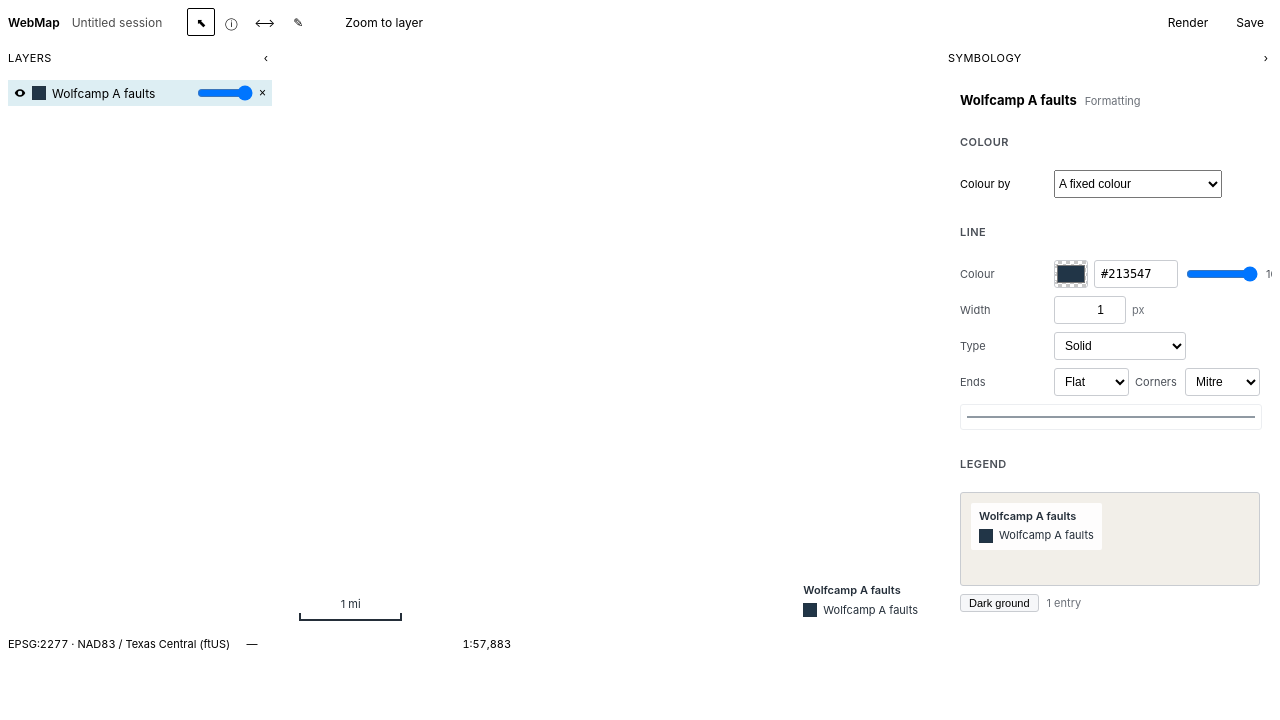
Test case: the working set › reports a layer too large to edit rather than opening an empty one
What coordinates should you click on to do the following:
click the radio button named "Edit"
I would click on:
 (298, 22)
Its box is left=284, top=8, right=312, bottom=36.
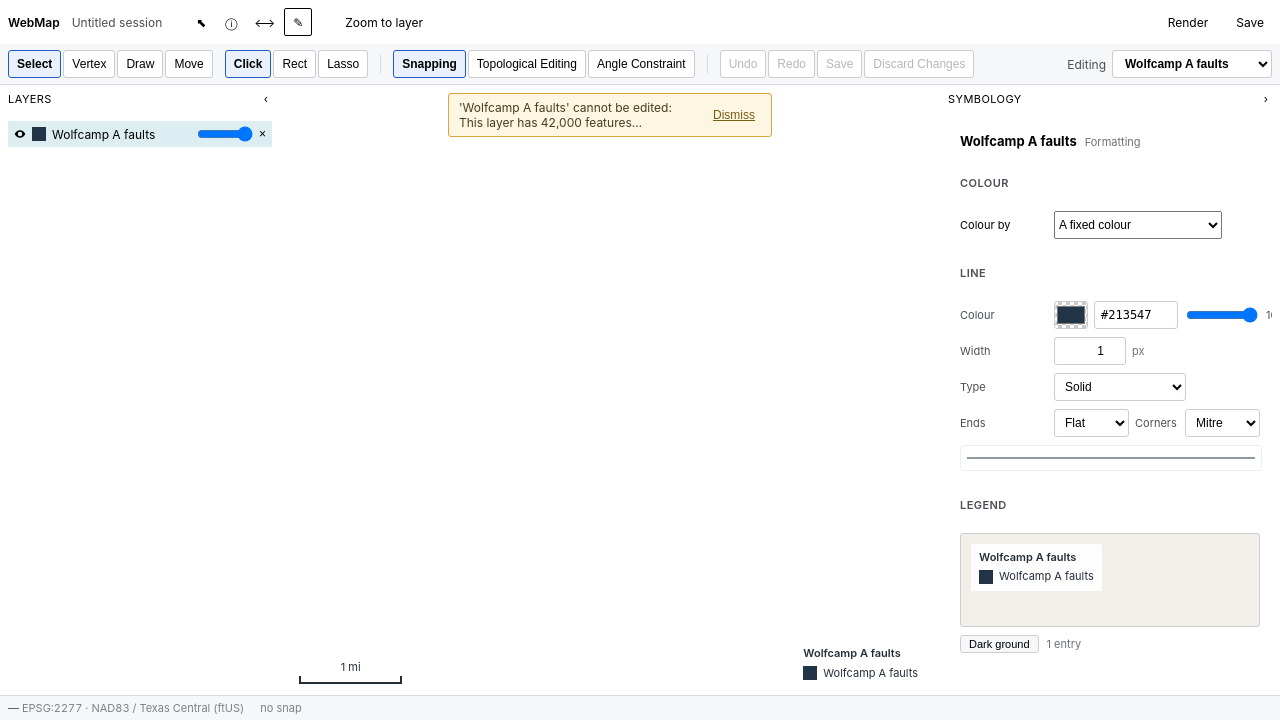
Expected: the message named "Editing notice" shows "42,000 features", left=459, top=100, right=672, bottom=130
